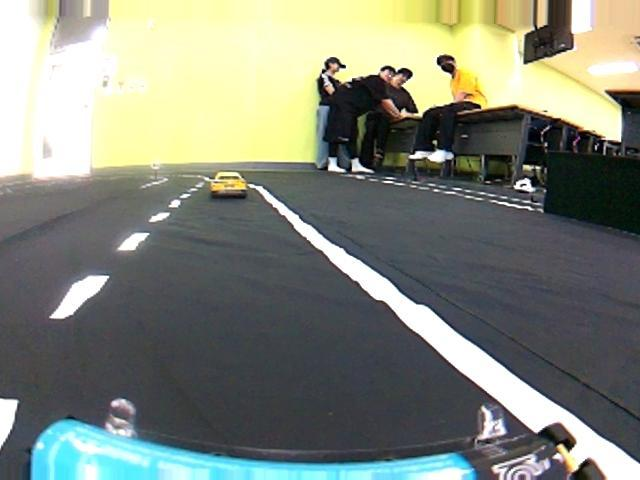car: (209, 170, 249, 199)
straight: (5, 221, 630, 473)
